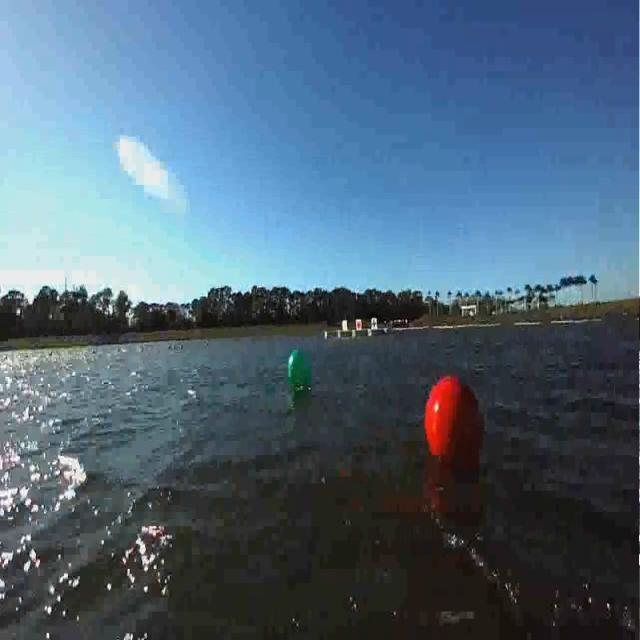green-buoy: (286, 350, 312, 391)
red-buoy: (425, 376, 485, 465)
